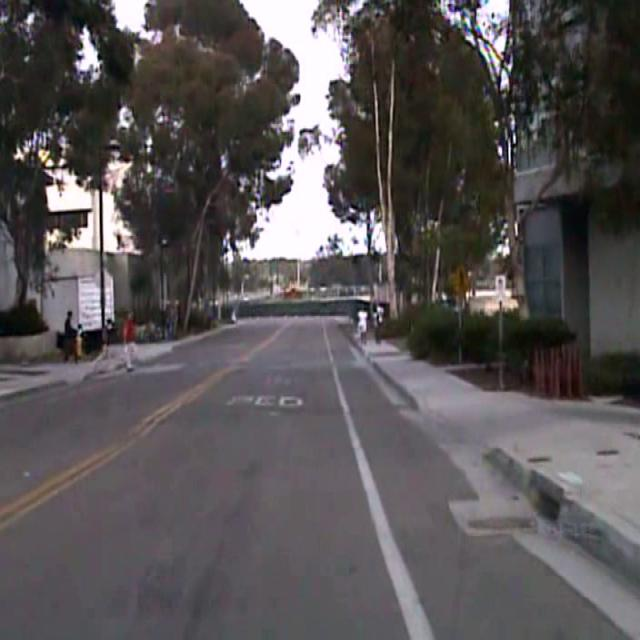pedestrianCrossing: (449, 261, 472, 303)
